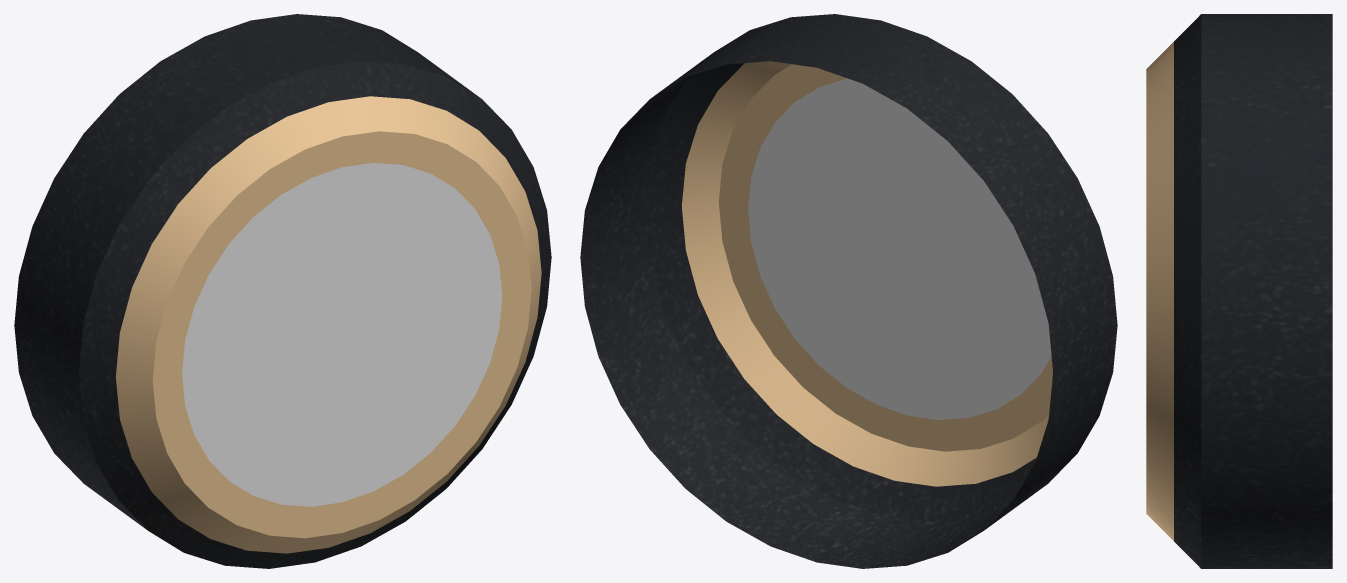
File: shopZoneColorPickerBtn.gltf
The picture shows the model from 3 angles, left to right: view 1: azimuth 30°, elevation 25°; view 2: azimuth 150°, elevation 25°; view 3: azimuth 270°, elevation 25°; orthographic projection.
Visible parts, largest first — view 1: btn.colorPickerPreset, tint; view 2: btn.colorPickerPreset, tint; view 3: btn.colorPickerPreset.
Boxes of the visible parts, bbox=[...] form: btn.colorPickerPreset: bbox=[14, 14, 551, 568]; tint: bbox=[182, 163, 502, 506]; btn.colorPickerPreset: bbox=[580, 14, 1117, 568]; tint: bbox=[748, 78, 1051, 419]; btn.colorPickerPreset: bbox=[1146, 14, 1332, 568].
Size of what is drawn, in the model's own units: 0.4554 by 0.4554 by 0.1526.
3 materials, 1 textured.
